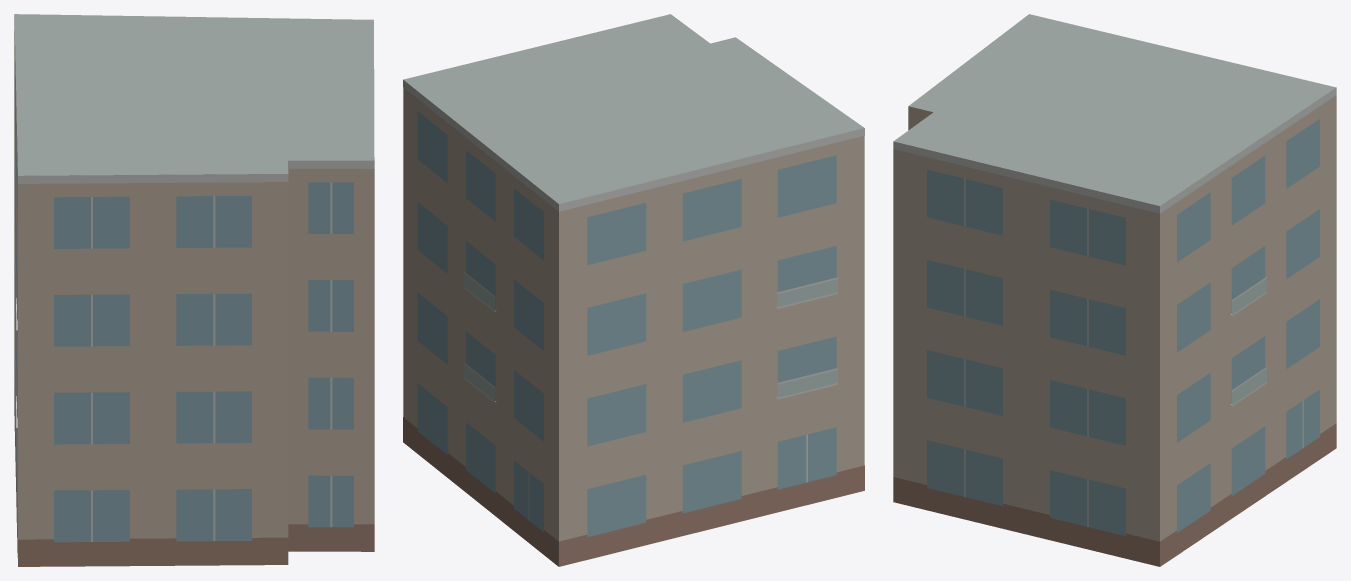
Rendered from survey-upis-32924483.glb.
3 renders of one model, left to right at view 1: azimuth 30°, elevation 25°; view 2: azimuth 150°, elevation 25°; view 3: azimuth 270°, elevation 25°, orthographic. The views are drawn at different scales.
Visible parts, largest first — view 1: survey-upis-32924483.tmp; view 2: survey-upis-32924483.tmp; view 3: survey-upis-32924483.tmp.
Boxes of the visible parts, left/top/right/bottom form: survey-upis-32924483.tmp: left=14, top=14, right=374, bottom=566; survey-upis-32924483.tmp: left=403, top=14, right=864, bottom=566; survey-upis-32924483.tmp: left=893, top=14, right=1336, bottom=566.
Bounding box in the file's own units: 13.38 × 11.7 × 13.04.
